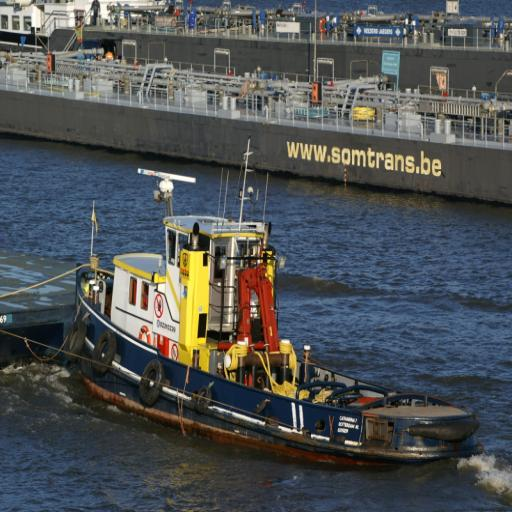tugboat: (78, 204, 485, 481)
